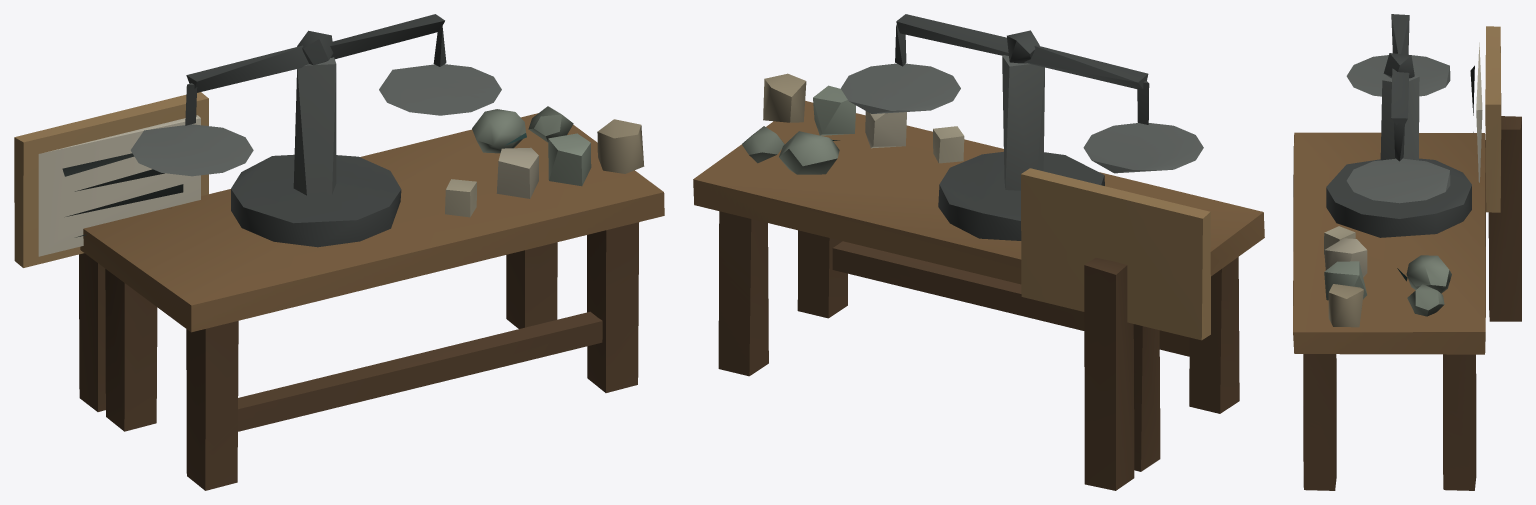
Rendered from assay_bench_a_lod2.glb.
The picture shows the model from 3 angles, left to right: view 1: azimuth 30°, elevation 25°; view 2: azimuth 150°, elevation 25°; view 3: azimuth 270°, elevation 25°; orthographic projection. The views are drawn at different scales.
Parts seen in each view (by area): view 1: Surface.001; view 2: Surface.001; view 3: Surface.001.
Part boxes in pixels (left/top/right/bottom): Surface.001: left=14, top=14, right=664, bottom=490; Surface.001: left=693, top=14, right=1264, bottom=490; Surface.001: left=1293, top=14, right=1521, bottom=490.
Size of the model in its own units: 2.69 by 1.79 by 1.15.
